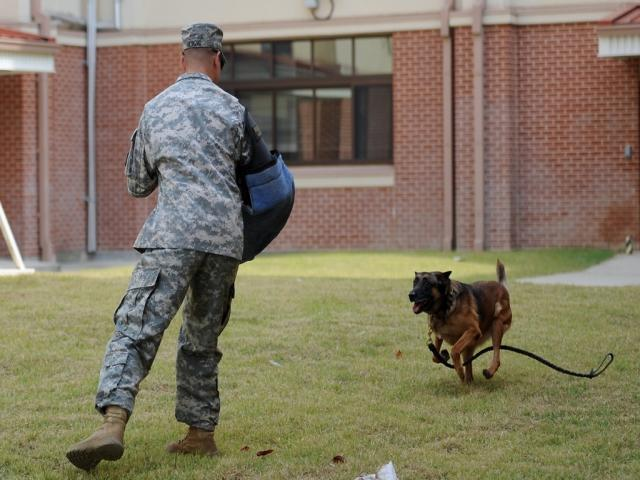Dog: (409, 258, 513, 391)
